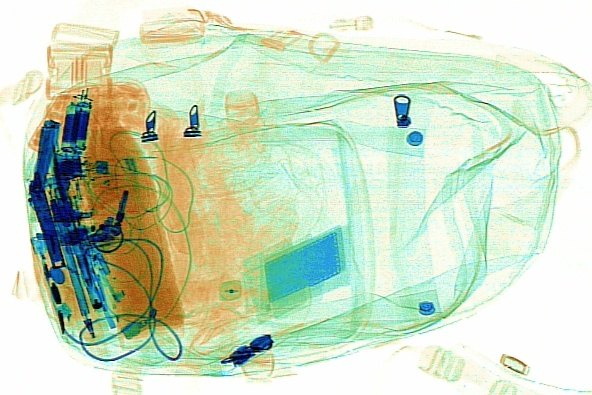lighter: (29, 235, 81, 340)
